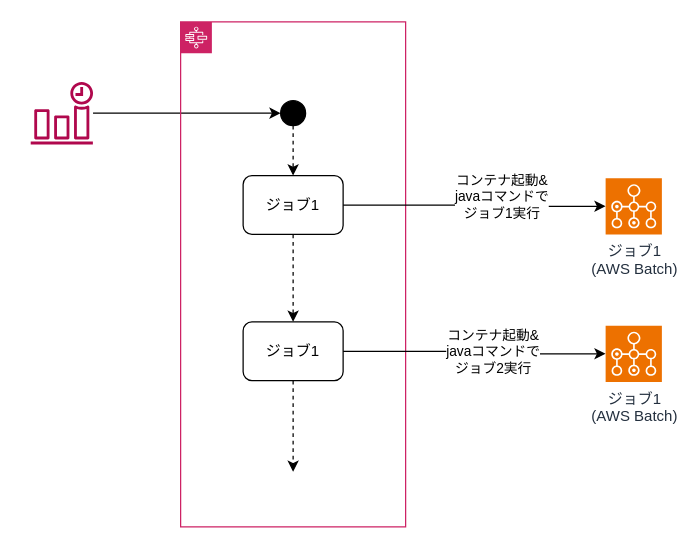
Image size: 699x549. Some labels were removed from this diagram. The box of each missing label's shape, as (x1, y1, x2, y2) in pixels:
AWS Step Functions workflow: (179, 21, 406, 527)
EventBridge Scheduler 定期実行: (30, 81, 92, 144)
